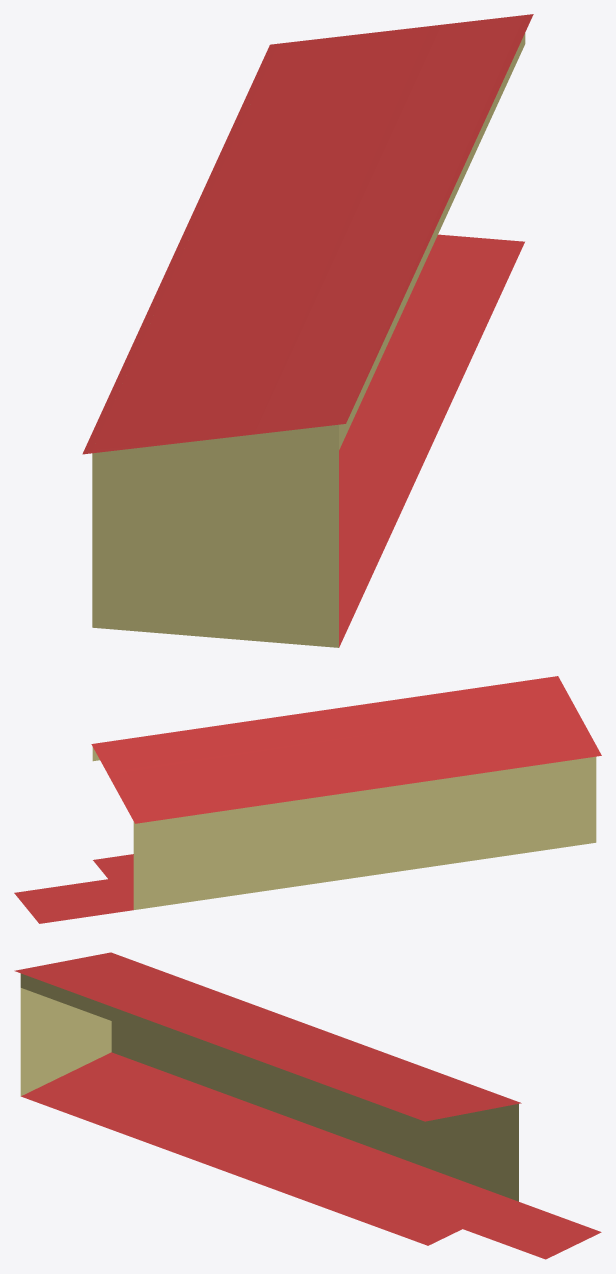
3 renders of one model, top to bottom at view 1: azimuth 30°, elevation 25°; view 2: azimuth 150°, elevation 25°; view 3: azimuth 270°, elevation 25°, orthographic. The views are drawn at different scales.
Size of the model in its own units: 25.99 by 30.73 by 7.26.
